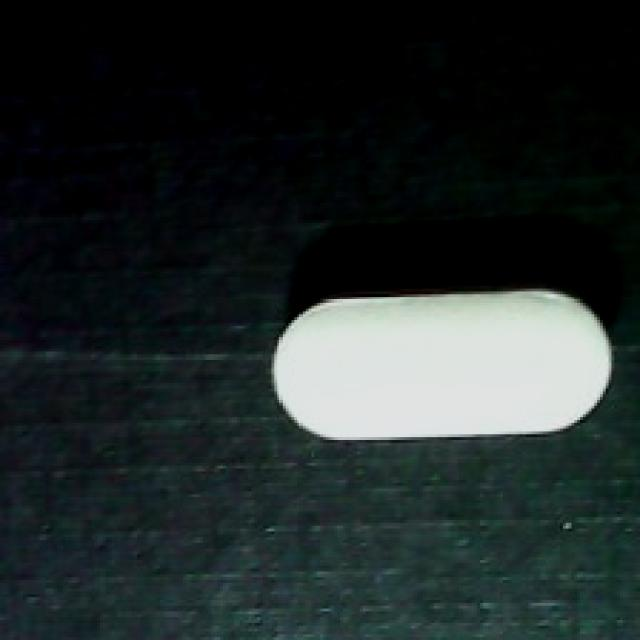no-defect: (269, 274, 614, 449)
